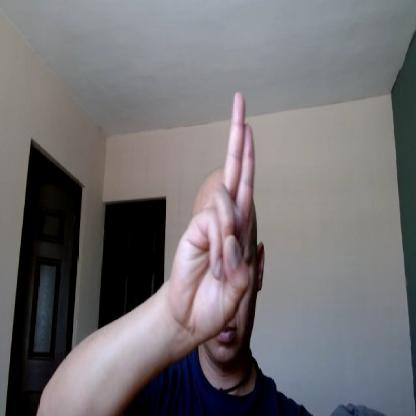U: (169, 91, 256, 346)
